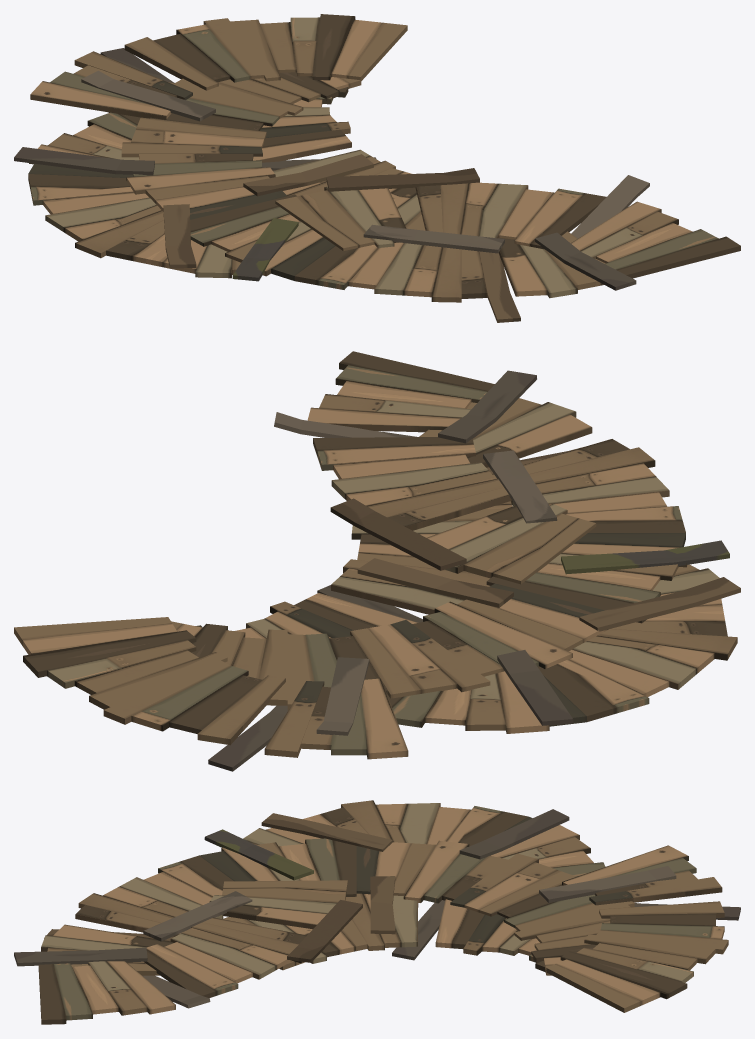
Rendered from SM_Bld_Dock_Preset_02.fbx.
The picture shows the model from 3 angles, top to bottom: view 1: azimuth 30°, elevation 25°; view 2: azimuth 150°, elevation 25°; view 3: azimuth 270°, elevation 25°; orthographic projection. The views are drawn at different scales.
Visible parts, largest first — view 1: SM_Bld_Dock_Preset_02; view 2: SM_Bld_Dock_Preset_02; view 3: SM_Bld_Dock_Preset_02.
Boxes of the visible parts, box(x1,y1,x2,y2) form: SM_Bld_Dock_Preset_02: box(14, 14, 740, 322); SM_Bld_Dock_Preset_02: box(14, 351, 740, 771); SM_Bld_Dock_Preset_02: box(14, 800, 740, 1024).
Bounding box in the file's own units: 1011 × 68.71 × 1377.
